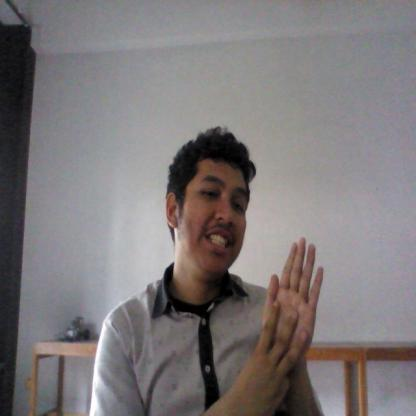M: (244, 235, 336, 405)
